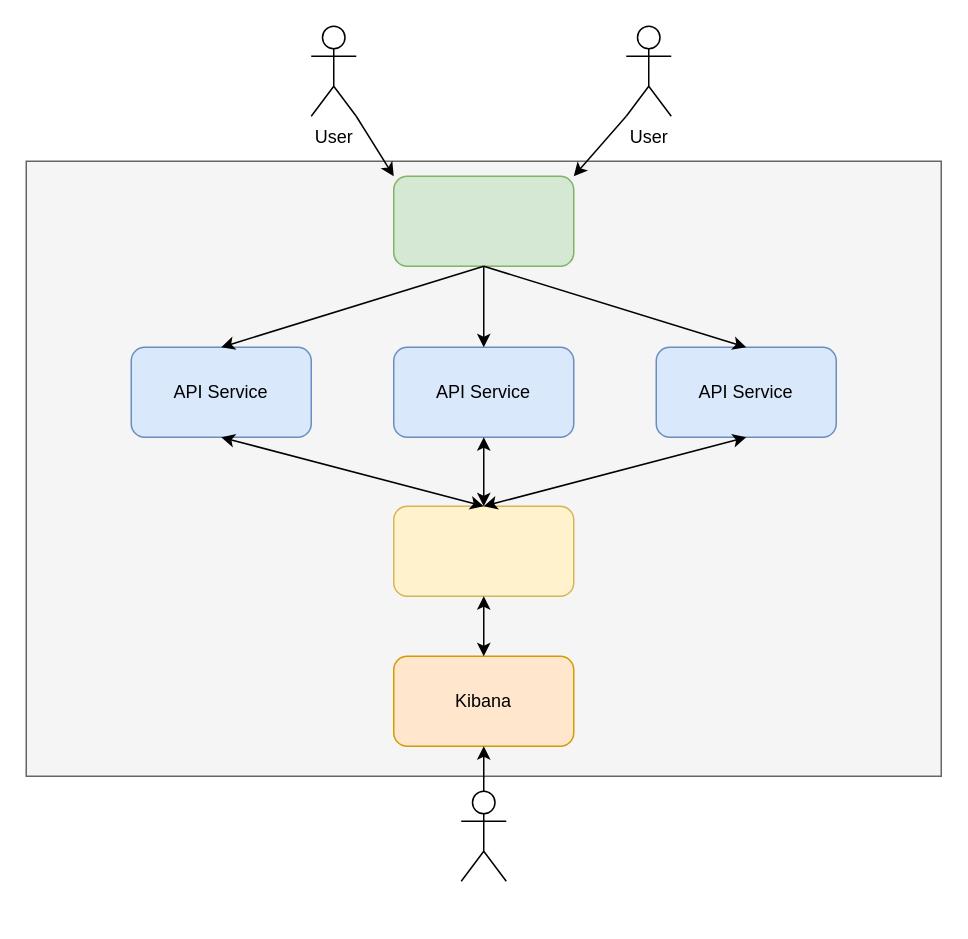
Image size: 968x939. Some labels were removed from this diagram. Here are the shapes that lost their labels. From the top down, the centre of each, then its label:
point 483,220: Nginx Load Balancer
point 483,550: Elasticsearch
point 483,835: Administrator
